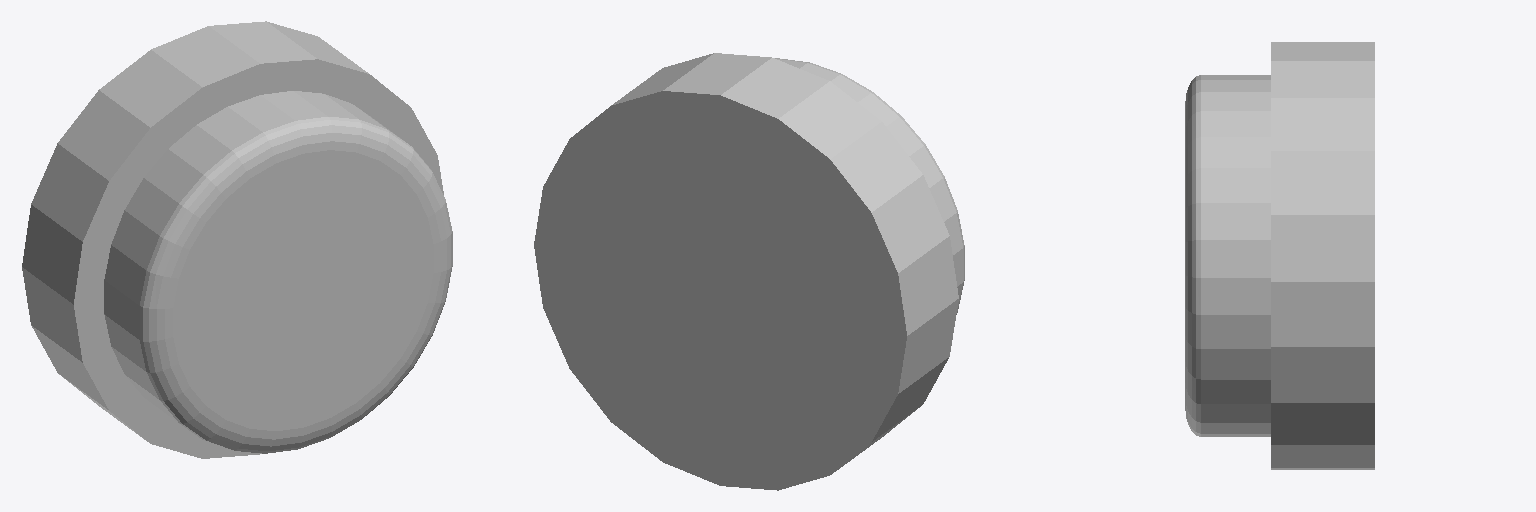
File: btn_green_pressed.obj
3 views of the same model, side by side, from view 1: azimuth 30°, elevation 25°; view 2: azimuth 150°, elevation 25°; view 3: azimuth 270°, elevation 25° (orthographic).
Parts seen in each view (by area): view 1: obj_0; view 2: obj_0; view 3: obj_0.
Part boxes in pixels (x1,y1,x2,y2): obj_0: (22,21,452,458); obj_0: (534,53,964,490); obj_0: (1185,42,1374,469).
Size of the model in its own units: 25 by 25 by 11.